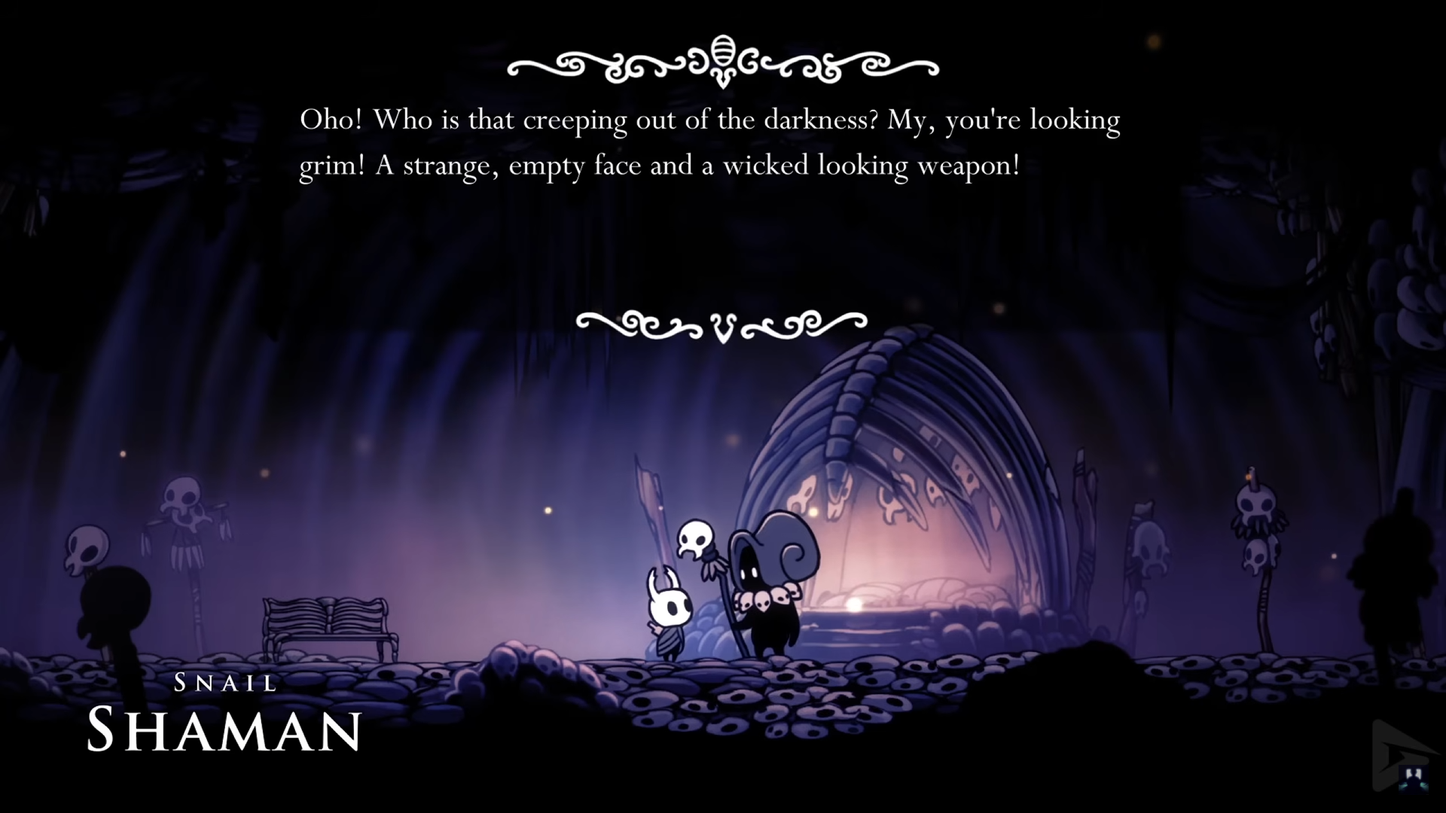HK: (639, 564, 697, 662)
